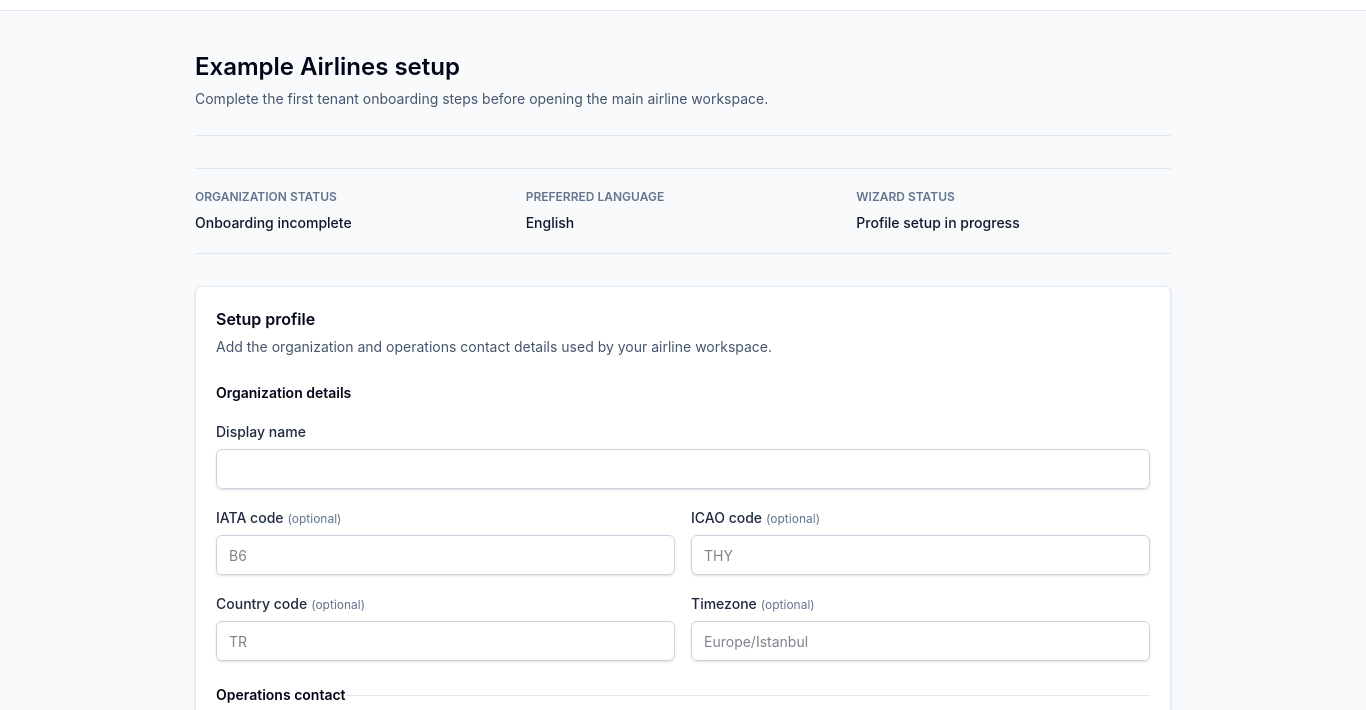
Test: AppSetupPage › blocks PUT when IATA code is invalid
Type "Airline Tenant" into the field labelled "Display name" at (683, 469), box [216,449,1150,489]
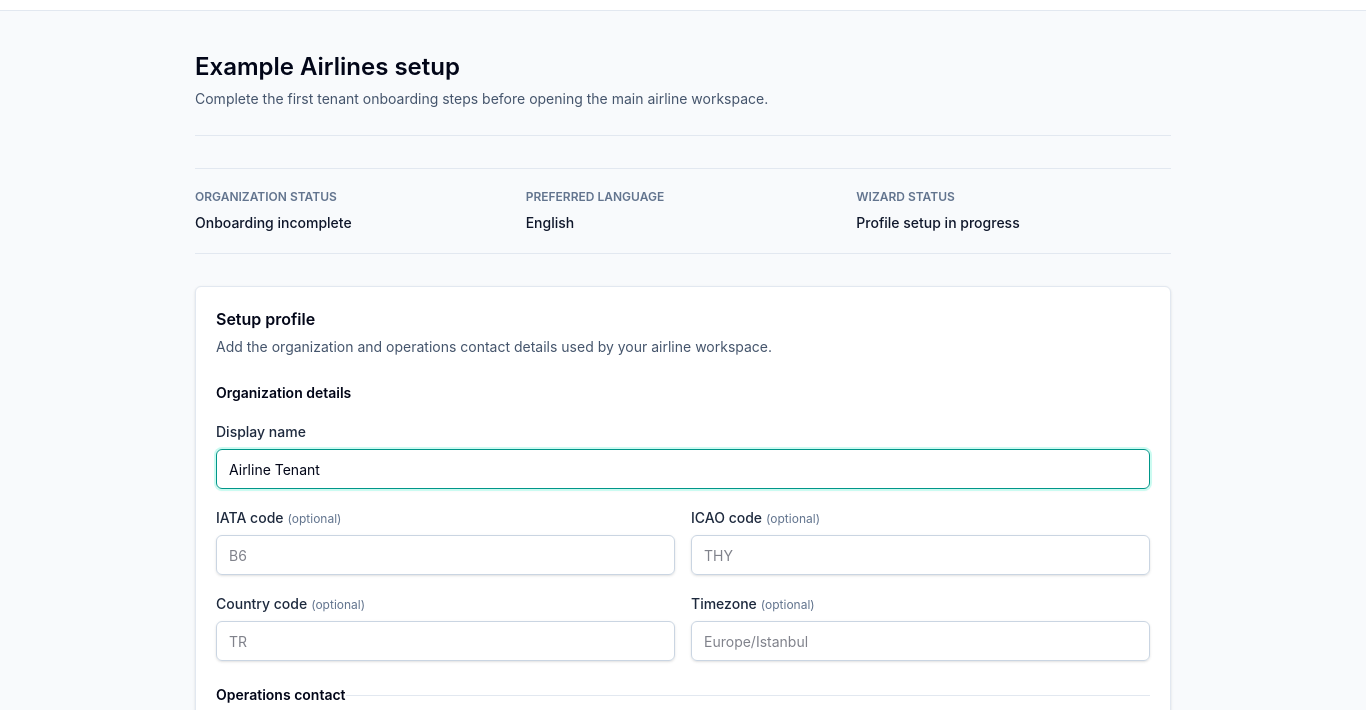
Type "ABC" into the field labelled "IATA code(optional)" at (446, 555), box [216,535,675,575]
(page scrolled)
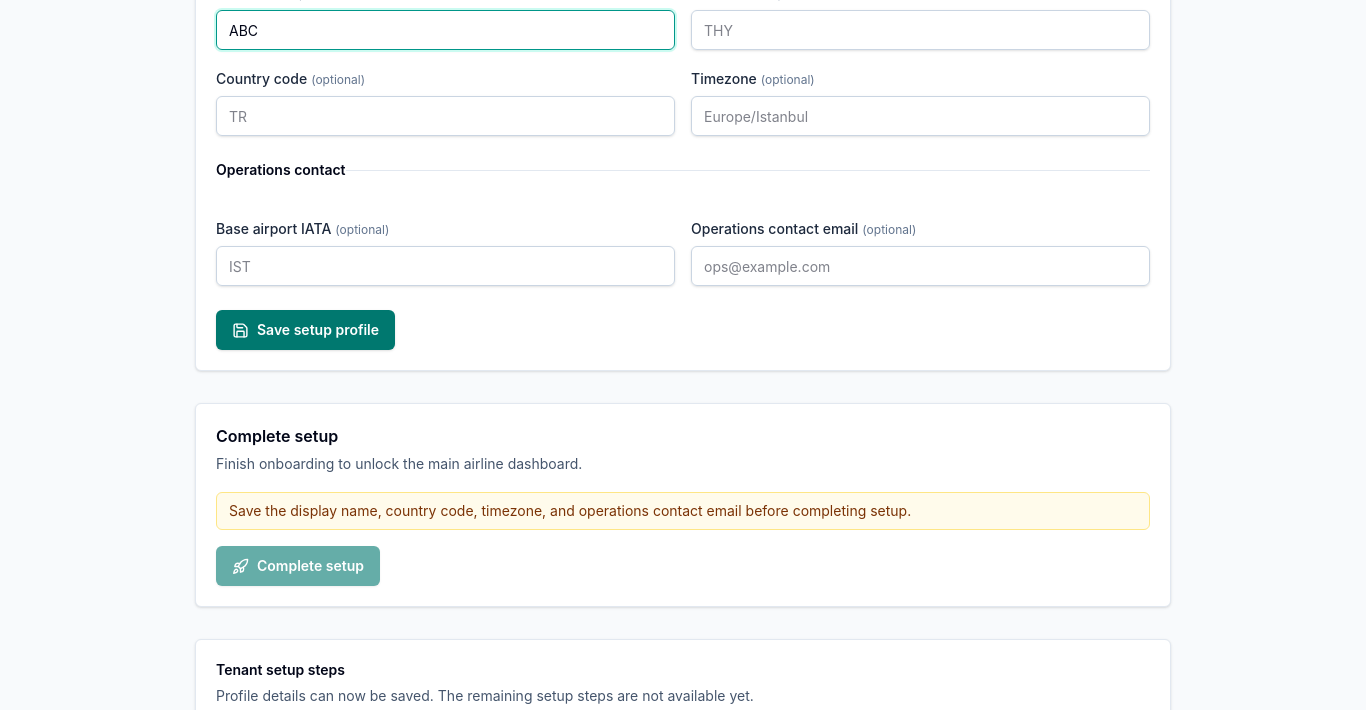
Click the button "Save setup profile" at (306, 330), box [216,310,395,350]
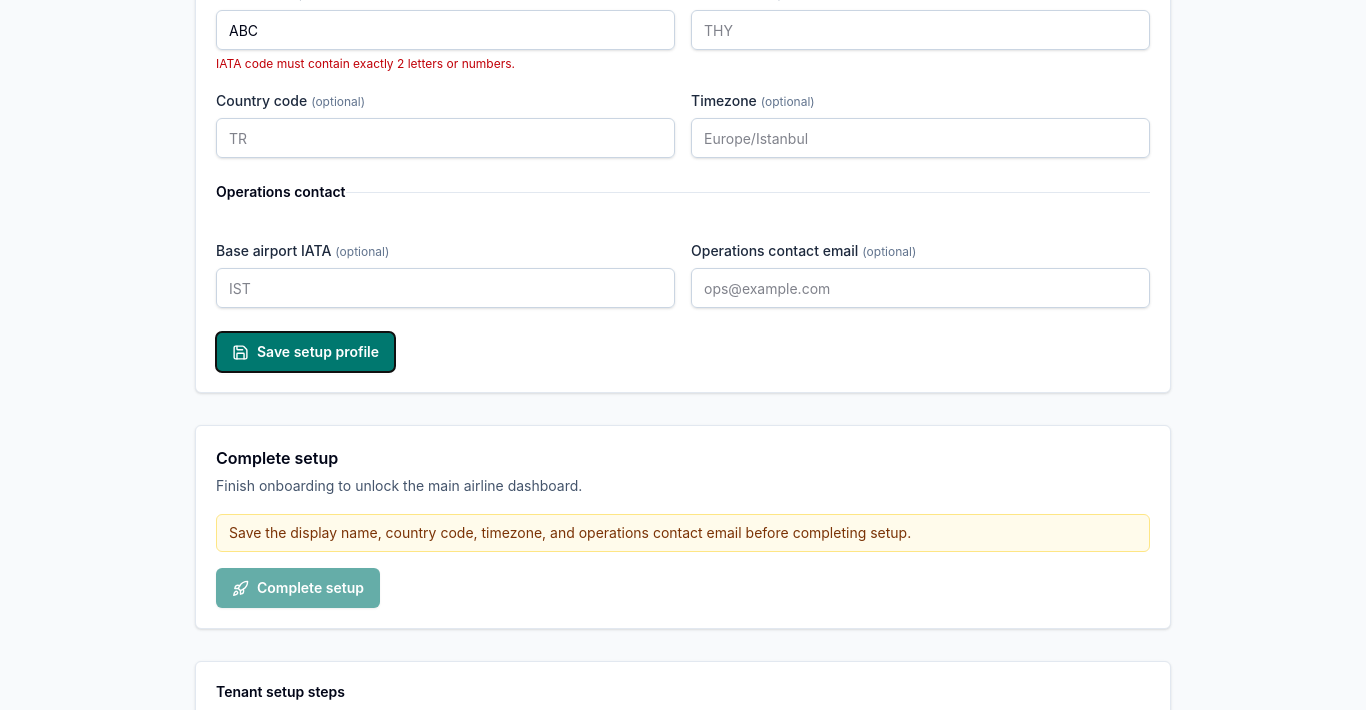
Expected: the text "IATA code must contain exactly 2 letters or numbers." is shown, [216,56,515,71]
